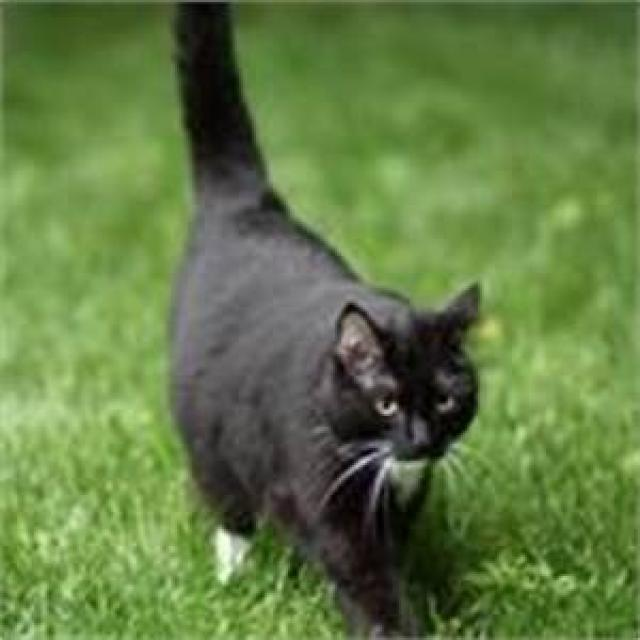KEDI: (162, 2, 494, 639)
